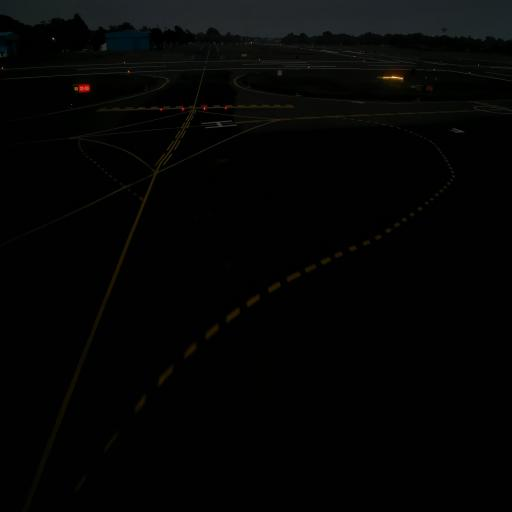on: (181, 104, 185, 113), (159, 105, 163, 113), (203, 106, 207, 113), (224, 106, 228, 112)
